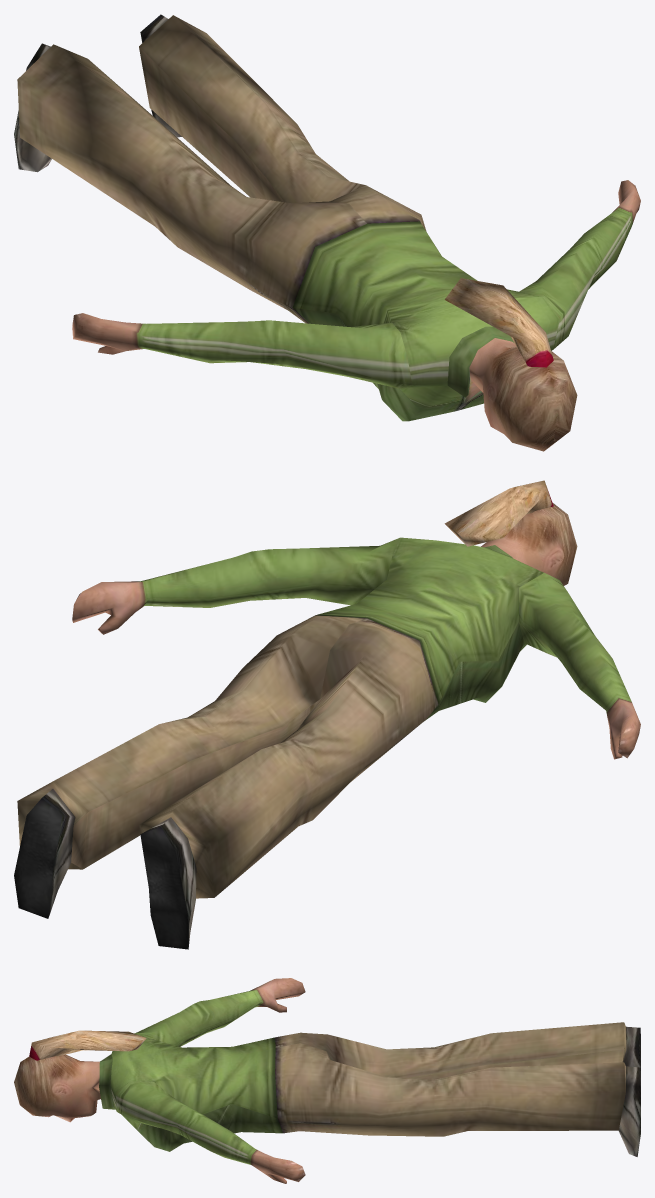
File: female_bend.obj
The picture shows the model from 3 angles, top to bottom: view 1: azimuth 30°, elevation 25°; view 2: azimuth 150°, elevation 25°; view 3: azimuth 270°, elevation 25°; orthographic projection. The views are drawn at different scales.
Bounding box in the file's own units: 1.21 × 0.3243 × 1.71.
2 materials, 2 textured.
